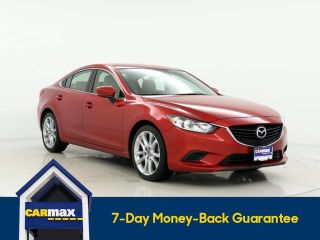Mazda3 Hatchback: (37, 63, 289, 181)
